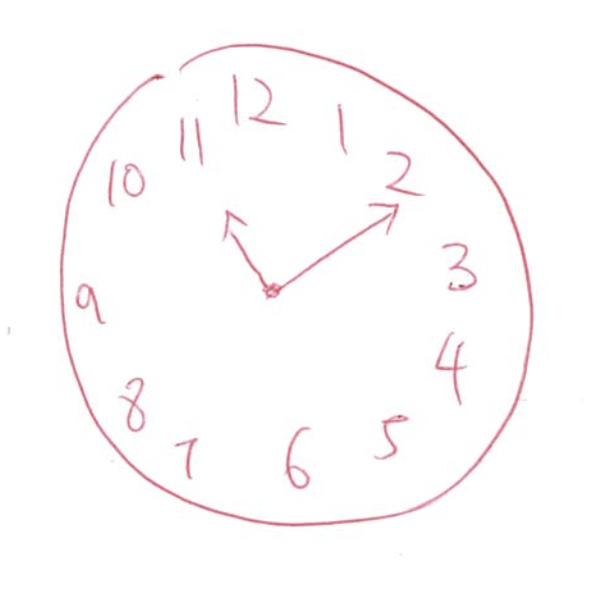1: (333, 98, 353, 158)
10: (104, 156, 148, 212)
11: (175, 110, 208, 172)
12: (227, 72, 287, 131)
2: (379, 147, 427, 199)
3: (442, 235, 480, 295)
4: (434, 325, 471, 411)
5: (372, 411, 410, 464)
6: (281, 420, 316, 492)
7: (168, 433, 200, 483)
8: (115, 372, 149, 433)
9: (71, 280, 106, 329)
contour: (54, 40, 536, 527)
hand: (217, 203, 417, 301)
top_left_arrow: (221, 210, 268, 292)
top_right_arrow: (274, 200, 400, 291)
